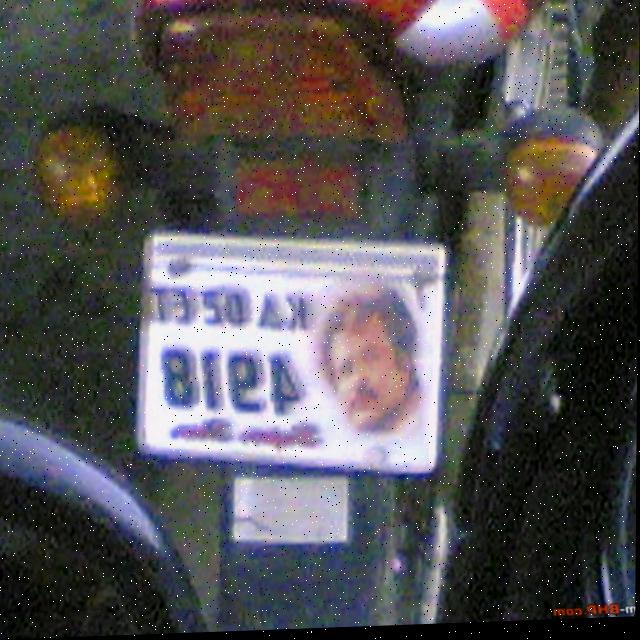plate: (132, 218, 454, 488)
